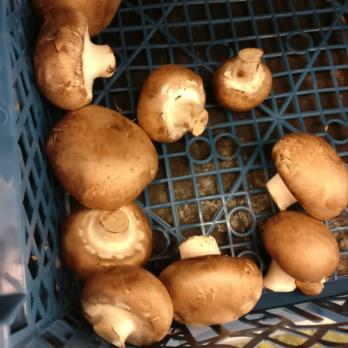Mushroom: (28, 0, 91, 348), (156, 242, 270, 323), (259, 210, 348, 298), (262, 132, 348, 218), (126, 61, 214, 143), (216, 45, 273, 109)
